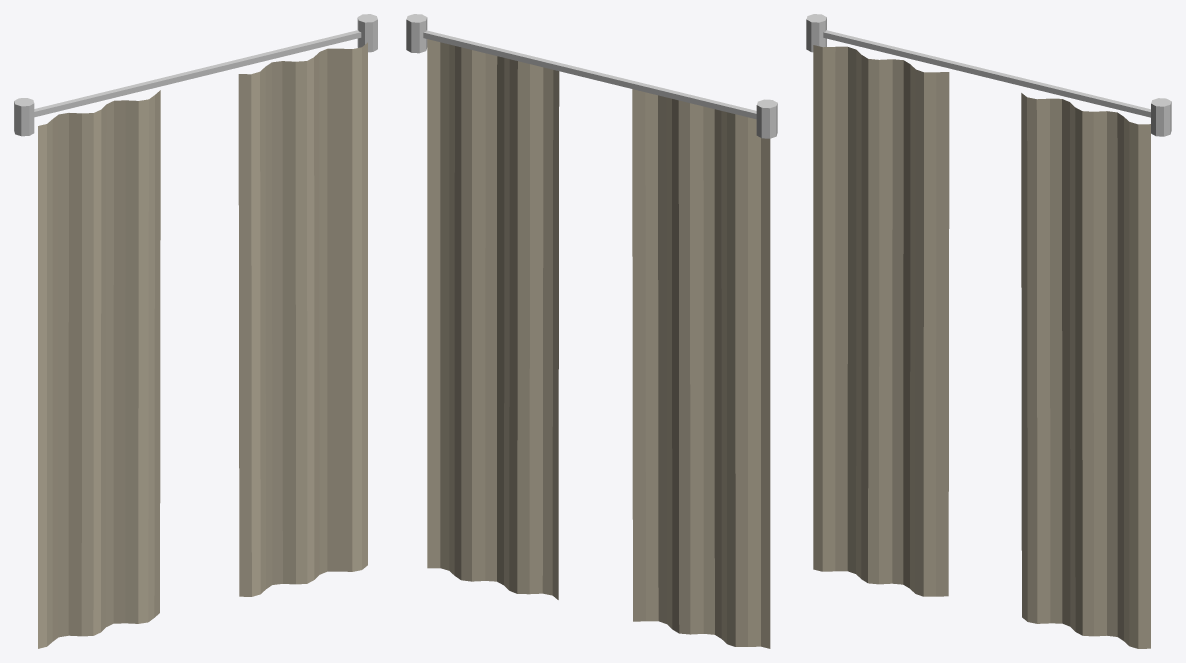
Rendered from curtains-cream.glb.
3 renders of one model, left to right at view 1: azimuth 30°, elevation 25°; view 2: azimuth 150°, elevation 25°; view 3: azimuth 330°, elevation 25°, orthographic.
Parts seen in each view (by area): view 1: curtains-cream; view 2: curtains-cream; view 3: curtains-cream.
Boxes of the visible parts, left/top/right/bottom form: curtains-cream: left=14, top=14, right=377, bottom=648; curtains-cream: left=406, top=14, right=777, bottom=648; curtains-cream: left=806, top=14, right=1171, bottom=648.
Size of the model in its own units: 1.6 by 2.29 by 0.1093.
